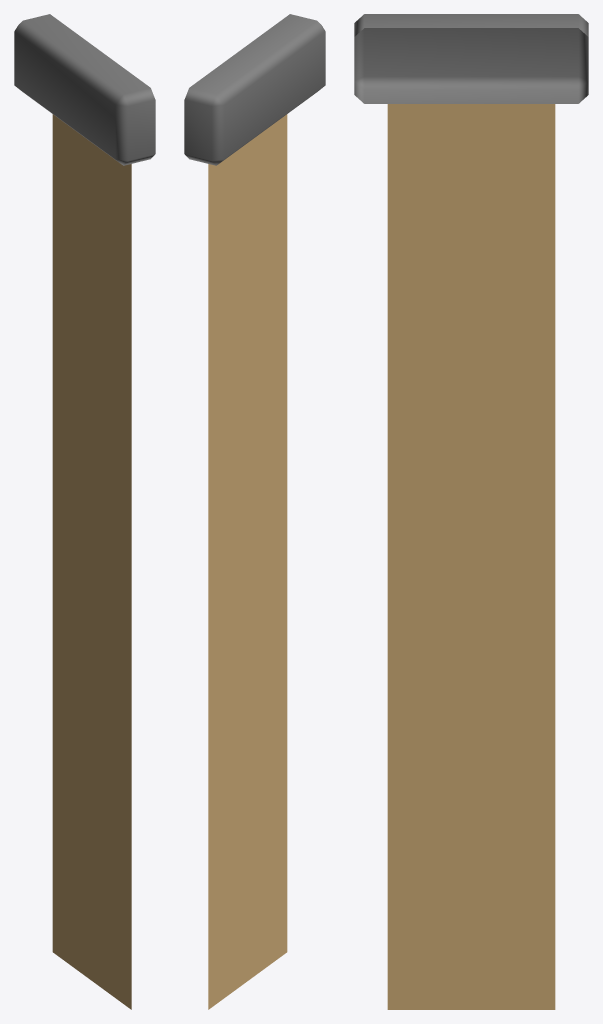
The model's file is SM_WallEndB_6_LOD0.fbx.
The picture shows the model from 3 angles, left to right: view 1: azimuth 30°, elevation 25°; view 2: azimuth 150°, elevation 25°; view 3: azimuth 270°, elevation 25°; orthographic projection. The views are drawn at different scales.
Parts seen in each view (by area): view 1: SM_WallEndB_6_LOD0; view 2: SM_WallEndB_6_LOD0; view 3: SM_WallEndB_6_LOD0.
Part boxes in pixels (<box>): SM_WallEndB_6_LOD0: <box>14,14,155,1009</box>; SM_WallEndB_6_LOD0: <box>184,14,325,1009</box>; SM_WallEndB_6_LOD0: <box>354,14,588,1009</box>.
Bounding box in the file's own units: 0.26 × 6.5 × 1.4.
